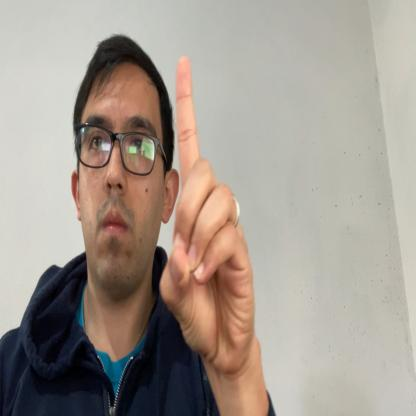D: (160, 54, 255, 377)
